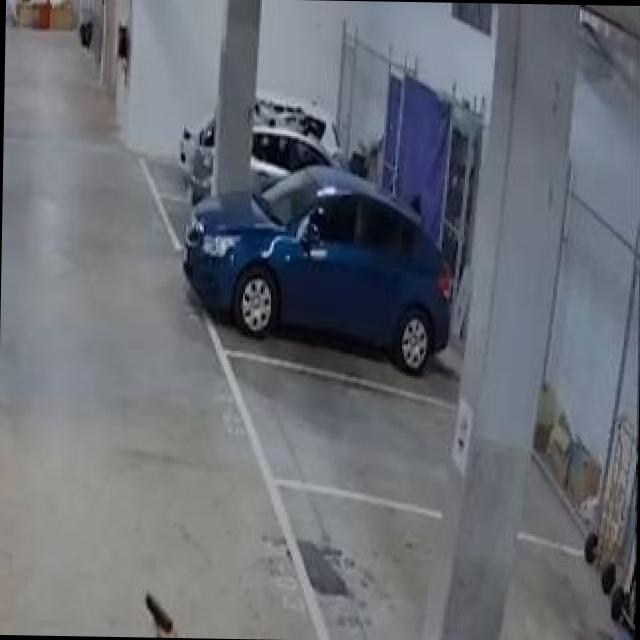Guns: (134, 575, 192, 638)
